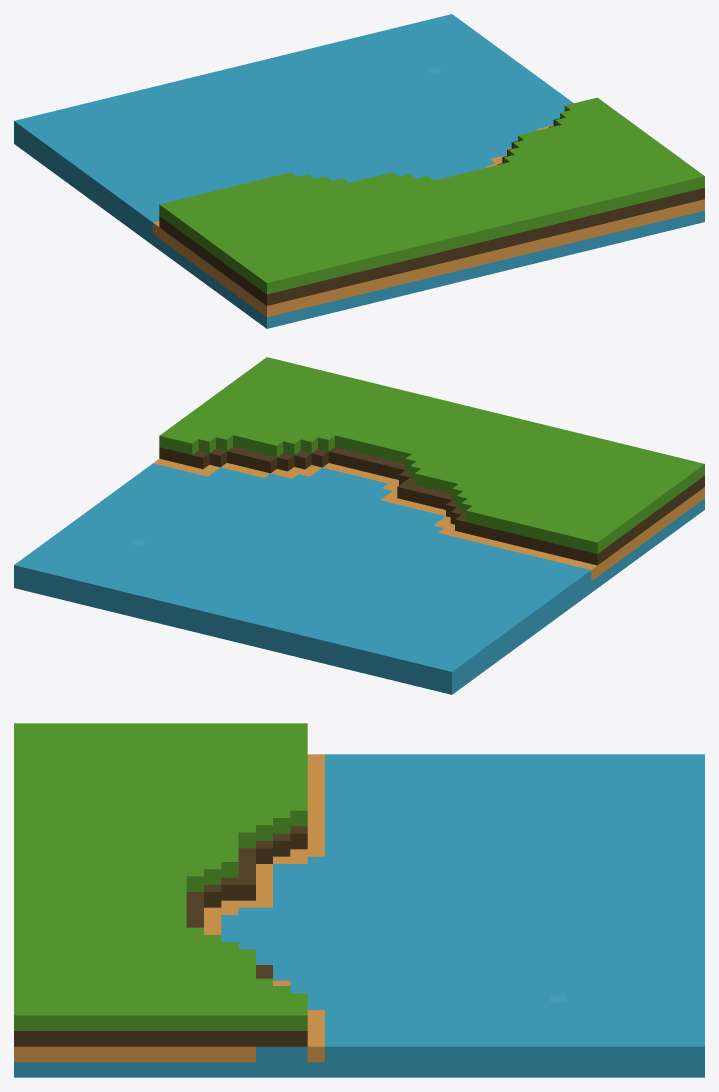
The model's file is river3-2-River.obj.
The picture shows the model from 3 angles, top to bottom: view 1: azimuth 30°, elevation 25°; view 2: azimuth 150°, elevation 25°; view 3: azimuth 270°, elevation 25°; orthographic projection. The views are drawn at different scales.
Parts seen in each view (by area): view 1: River; view 2: River; view 3: River.
Part boxes in pixels (x1,y1,x2,y2): River: (14, 14, 704, 328); River: (14, 357, 704, 694); River: (14, 723, 704, 1077).
Bounding box in the file's own units: 4 × 0.4 × 4.
1 material, 1 textured.
